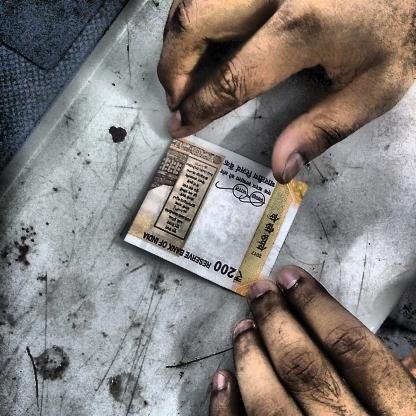Rs200: (209, 257, 247, 288)
